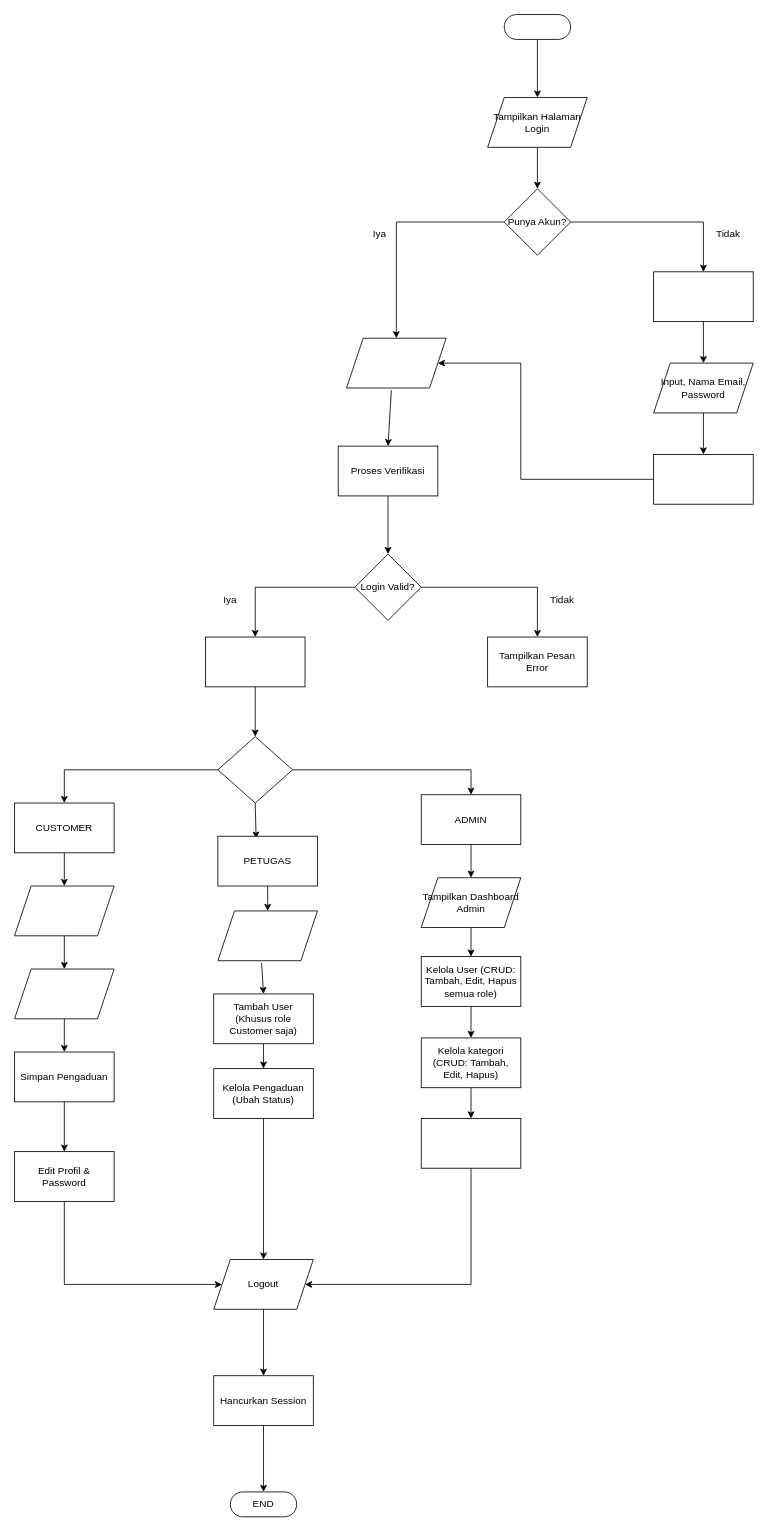
Some shapes in this 768 by 1531 pixel diagram are drawn without their labels. The shapes that lost their labels are listed below. From the top down, each one's centre as x and y in pixels, then its label:
At point (537, 26): "Start".
At point (703, 296): "Ke Halaman Register".
At point (396, 362): "Input Email & Password".
At point (703, 479): "Proses Simpan ke DB (Role = Customer)".
At point (255, 661): "Buat Session Login".
At point (255, 769): "Cek Role User".
At point (64, 910): "Tampilkan Dashboard Customer".
At point (267, 935): "Tampilkan Dashboard Petugas".
At point (64, 993): "Input Pengaduan Baru + Upload Foto".
At point (470, 1143): "Kelola Pengaduan (Ubah Status: Menunggu".
